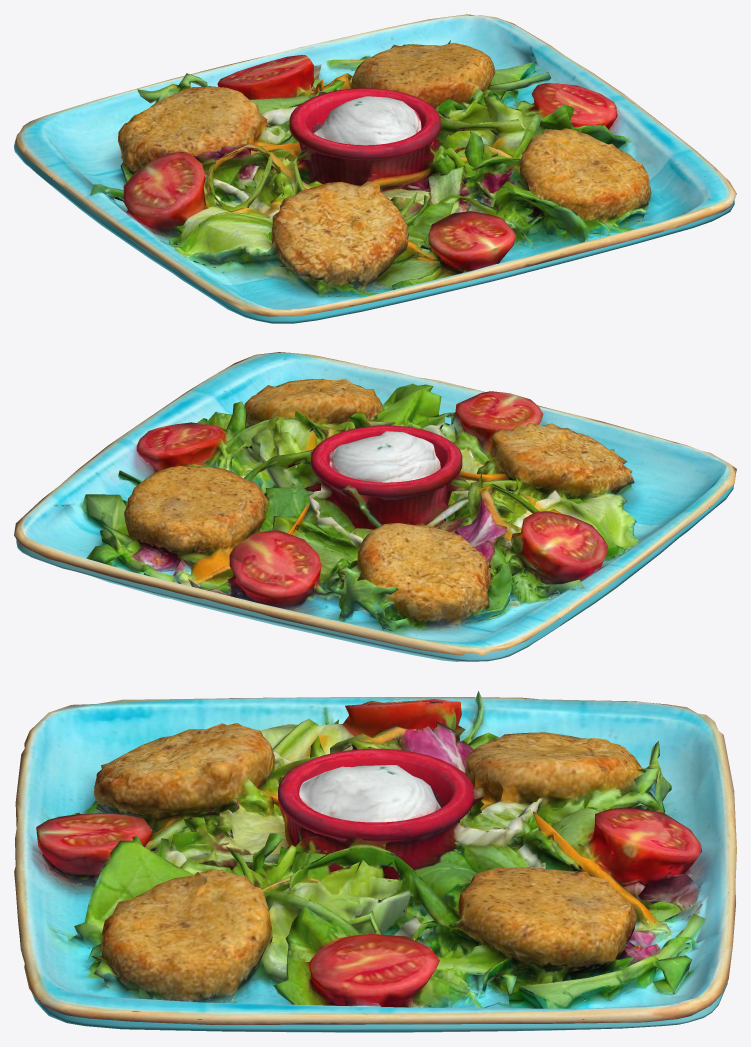
Rendered from Falafel.glb.
The picture shows the model from 3 angles, top to bottom: view 1: azimuth 30°, elevation 25°; view 2: azimuth 150°, elevation 25°; view 3: azimuth 270°, elevation 25°; orthographic projection. The views are drawn at different scales.
Visible parts, largest first — view 1: 24_object.017_2, tabakKare_object.015_1, KaseKucuk_Cylinder.007_3; view 2: 24_object.017_2, tabakKare_object.015_1, KaseKucuk_Cylinder.007_3; view 3: 24_object.017_2, KaseKucuk_Cylinder.007_3, tabakKare_object.015_1.
Part boxes in pixels (x1=…): 24_object.017_2: x1=16, y1=14, x2=736, y2=316; tabakKare_object.015_1: x1=14, y1=133, x2=734, y2=323; KaseKucuk_Cylinder.007_3: x1=289, y1=88, x2=440, y2=160; 24_object.017_2: x1=14, y1=352, x2=736, y2=655; tabakKare_object.015_1: x1=16, y1=485, x2=733, y2=661; KaseKucuk_Cylinder.007_3: x1=311, y1=425, x2=462, y2=500; 24_object.017_2: x1=14, y1=691, x2=736, y2=1024; KaseKucuk_Cylinder.007_3: x1=278, y1=748, x2=473, y2=844; tabakKare_object.015_1: x1=31, y1=956, x2=727, y2=1032.
Size of the model in its own units: 0.26 by 0.0457 by 0.2437.
Materials: 3 (3 with a texture image).
